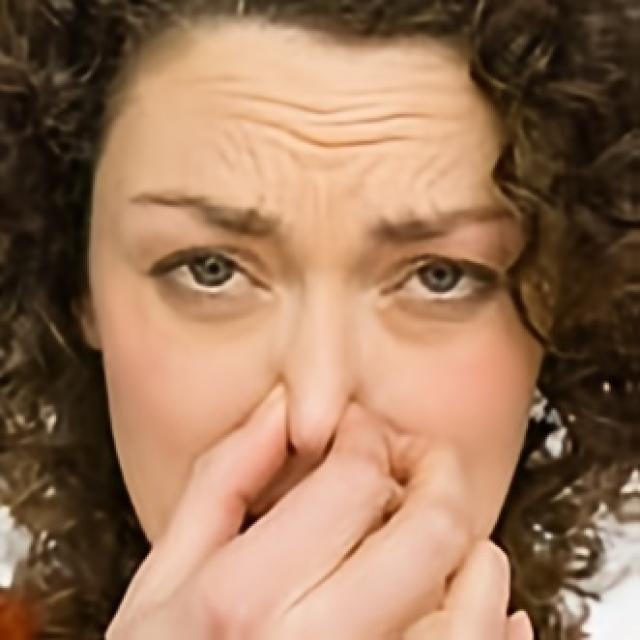disgust: (89, 0, 552, 640)
